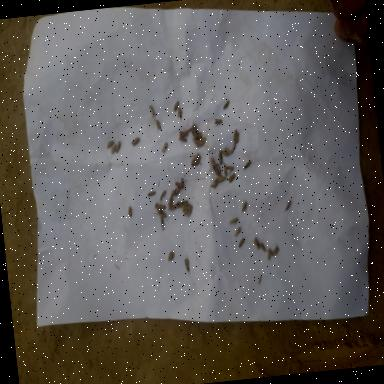pbw: (158, 190, 168, 204), (166, 196, 176, 210), (168, 201, 181, 211), (190, 153, 200, 166), (184, 258, 191, 276), (282, 200, 292, 212), (271, 243, 280, 256), (259, 241, 268, 254), (176, 108, 184, 122), (149, 104, 156, 120), (183, 204, 192, 216), (181, 200, 190, 212), (186, 205, 194, 218), (240, 200, 248, 213), (227, 174, 237, 184), (131, 137, 141, 147), (242, 160, 252, 170), (198, 137, 207, 148), (161, 142, 169, 154), (172, 101, 180, 113), (211, 177, 219, 189), (218, 150, 224, 166), (213, 165, 221, 177), (115, 141, 122, 154), (214, 118, 223, 128), (178, 129, 188, 138), (106, 140, 115, 150), (110, 142, 117, 154), (230, 142, 237, 154), (156, 120, 162, 134), (192, 124, 199, 136), (174, 181, 184, 189), (224, 146, 232, 156), (157, 210, 167, 218), (170, 188, 178, 198), (223, 161, 228, 177), (238, 238, 246, 248), (178, 136, 188, 144), (174, 187, 182, 197), (222, 100, 230, 110), (254, 237, 260, 250), (128, 206, 134, 218), (266, 248, 272, 260), (234, 132, 240, 144), (232, 130, 238, 142), (234, 227, 242, 236), (216, 163, 222, 174), (217, 176, 228, 182), (154, 202, 160, 213), (192, 138, 200, 146), (178, 200, 186, 208), (230, 218, 240, 224), (210, 156, 216, 166), (160, 216, 165, 228), (184, 127, 194, 133), (158, 203, 166, 210), (220, 150, 229, 156), (147, 190, 156, 196), (180, 178, 184, 190), (199, 132, 203, 143), (226, 166, 234, 170)
